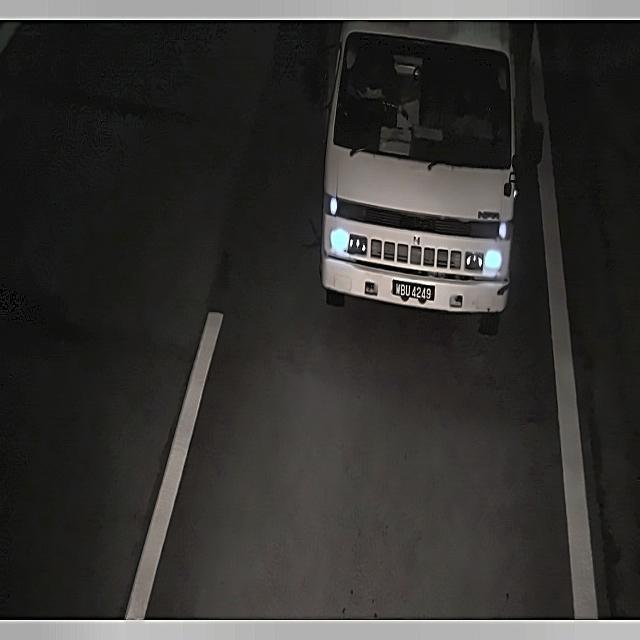car: (389, 272, 437, 307)
